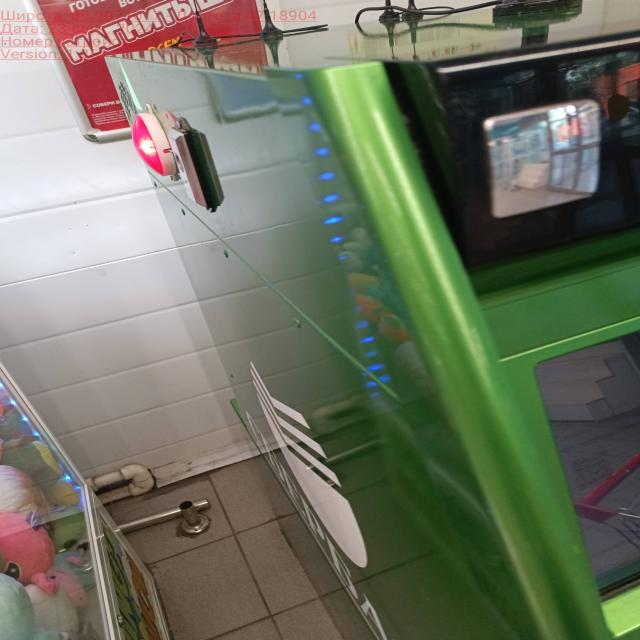bank: (102, 19, 640, 640)
